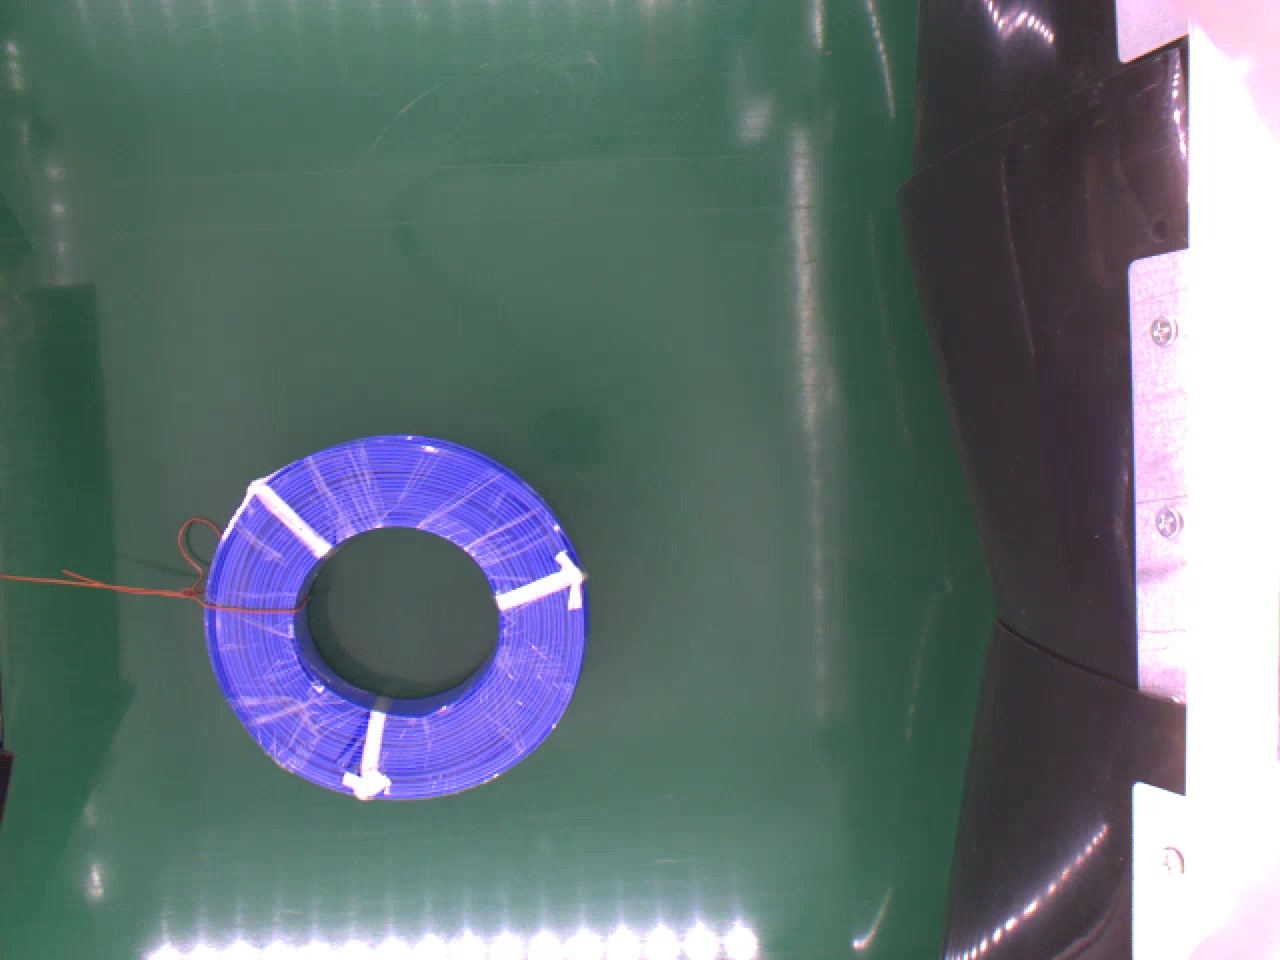blue: (198, 432, 591, 804)
